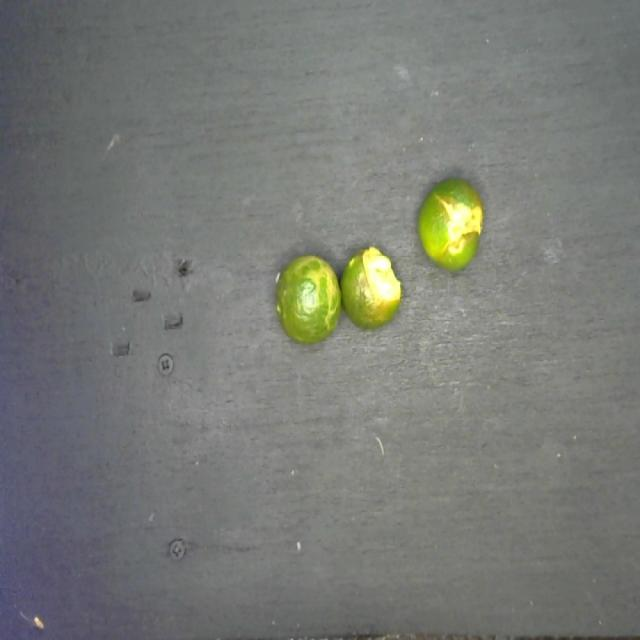biodegradable: (267, 166, 483, 356)
